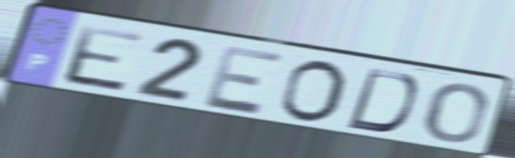2: (131, 38, 209, 107)
D: (343, 66, 422, 135)
E: (201, 42, 289, 118), (61, 22, 148, 96)
O: (275, 58, 349, 125), (422, 81, 491, 145)
